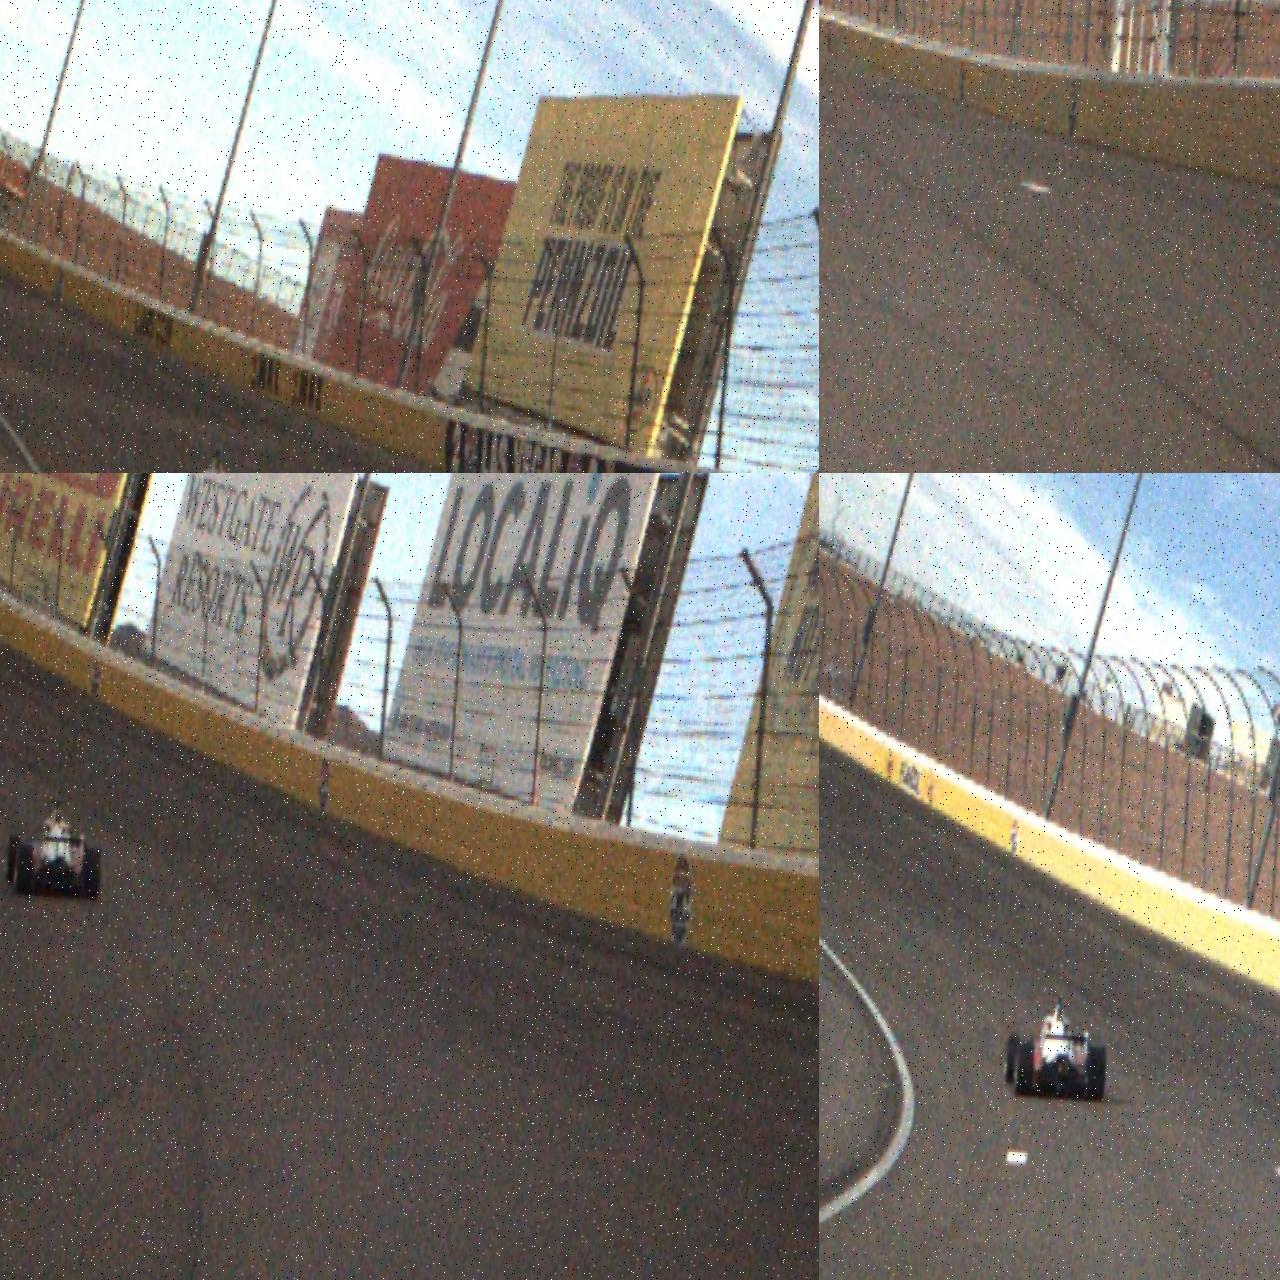AV: (1002, 989, 1112, 1104), (4, 795, 105, 900), (159, 443, 268, 474)
Wheel: (1013, 1042, 1036, 1098), (1085, 1047, 1108, 1103), (81, 847, 102, 900), (13, 844, 34, 896), (1003, 1033, 1021, 1085), (6, 833, 22, 883)
